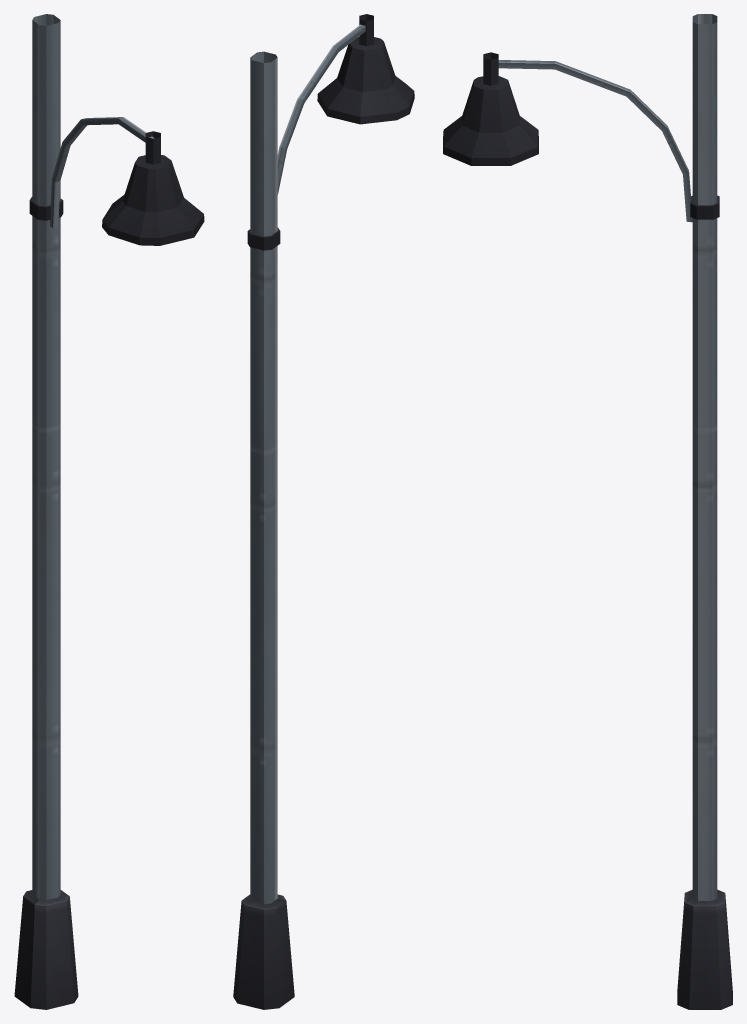
File: FaYuanWai_01_LuDeng_01.FBX
3 renders of one model, left to right at view 1: azimuth 30°, elevation 25°; view 2: azimuth 150°, elevation 25°; view 3: azimuth 270°, elevation 25°, orthographic. The views are drawn at different scales.
Parts seen in each view (by area): view 1: Object061; view 2: Object061; view 3: Object061.
Part boxes in pixels (<box>): Object061: <box>14,14,204,1009</box>; Object061: <box>233,14,414,1009</box>; Object061: <box>443,14,732,1009</box>.
Size of the model in its own units: 243 by 2634 by 707.
1 material, 1 textured.
